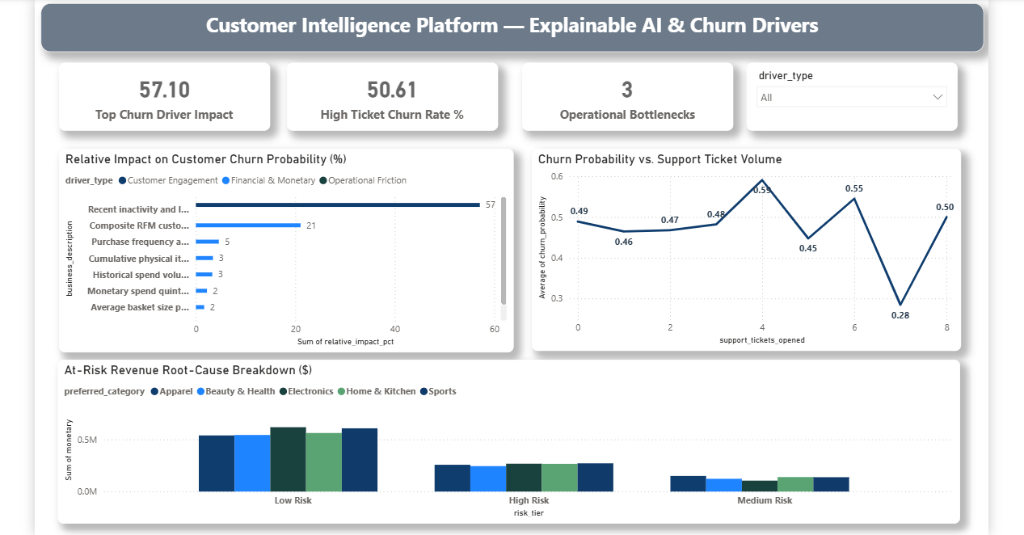

The page's visual inventory and layout, read from the dashboard file:
{"tool":"powerbi","page":{"name":"Explainable AI & Churn Drivers","canvas":[1280,720],"ordinal":3},"visuals":[{"type":"textbox","box":[8.1,7.2,1265.4,65],"z":0},{"type":"slicer","fields":{"Values":["Dim_Churn_Drivers.driver_type"]},"box":[954.8,86.2,283,91.1],"z":1000},{"type":"clusteredBarChart","title":"Relative Impact on Customer Churn Probability (%)","fields":{"Category":["Dim_Churn_Drivers.business_description"],"Series":["Dim_Churn_Drivers.driver_type"],"Y":["Sum(Dim_Churn_Drivers.relative_impact_pct)"]},"box":[32.5,201.7,610,273.3],"z":2000},{"type":"lineChart","title":"Churn Probability vs. Support Ticket Volume","fields":{"Category":["Dim_Customer_Analytics.support_tickets_opened"],"Y":["Avg(Dim_Customer_Analytics.churn_probability)"]},"box":[666.9,201.7,575.8,271.6],"z":3000},{"type":"clusteredColumnChart","title":"At-Risk Revenue Root-Cause Breakdown ($)","fields":{"Category":["Dim_Customer_Analytics.risk_tier"],"Series":["Dim_Customer_Analytics.preferred_category"],"Y":["Sum(Dim_Customer_Analytics.monetary)"]},"box":[31.5,485.3,1210.9,220.3],"z":4000},{"type":"card","fields":{"Values":["Max(Dim_Churn_Drivers.relative_impact_pct)"]},"box":[32.5,86.2,283,91.1],"z":5000},{"type":"card","fields":{"Values":["Dim_Customer_Analytics.High Ticket Churn Rate %"]},"box":[338.3,86.2,283,91.1],"z":6000},{"type":"card","fields":{"Values":["Dim_Customer_Analytics.Operational Drivers Count"]},"box":[653.9,86.2,283,91.1],"z":7000}]}

Visuals, with their boxes on the page's 1280x720 design canvas (x1, y1, x2, y2). These are canvas units, not pixel positions in the 1024x535 screenshot, which may show the page scaled, cropped or inside an application window:
textbox: l=8, t=7, r=1274, b=72
slicer - Dim_Churn_Drivers.driver_type: l=955, t=86, r=1238, b=177
"Relative Impact on Customer Churn Probability (%)" clusteredBarChart: l=32, t=202, r=642, b=475
"Churn Probability vs. Support Ticket Volume" lineChart: l=667, t=202, r=1243, b=473
"At-Risk Revenue Root-Cause Breakdown ($)" clusteredColumnChart: l=32, t=485, r=1242, b=706
card - Max(Dim_Churn_Drivers.relative_impact_pct): l=32, t=86, r=316, b=177
card - Dim_Customer_Analytics.High Ticket Churn Rate %: l=338, t=86, r=621, b=177
card - Dim_Customer_Analytics.Operational Drivers Count: l=654, t=86, r=937, b=177
